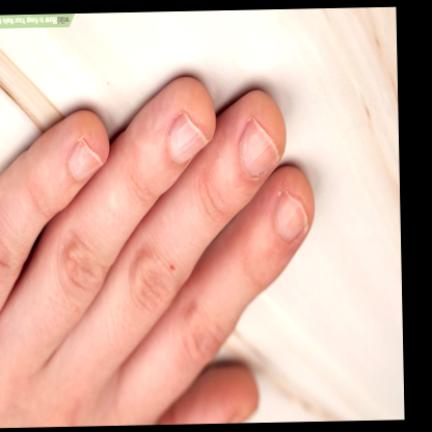Nail: (241, 118, 279, 177), (168, 112, 209, 163), (275, 190, 307, 240), (69, 138, 103, 180)
